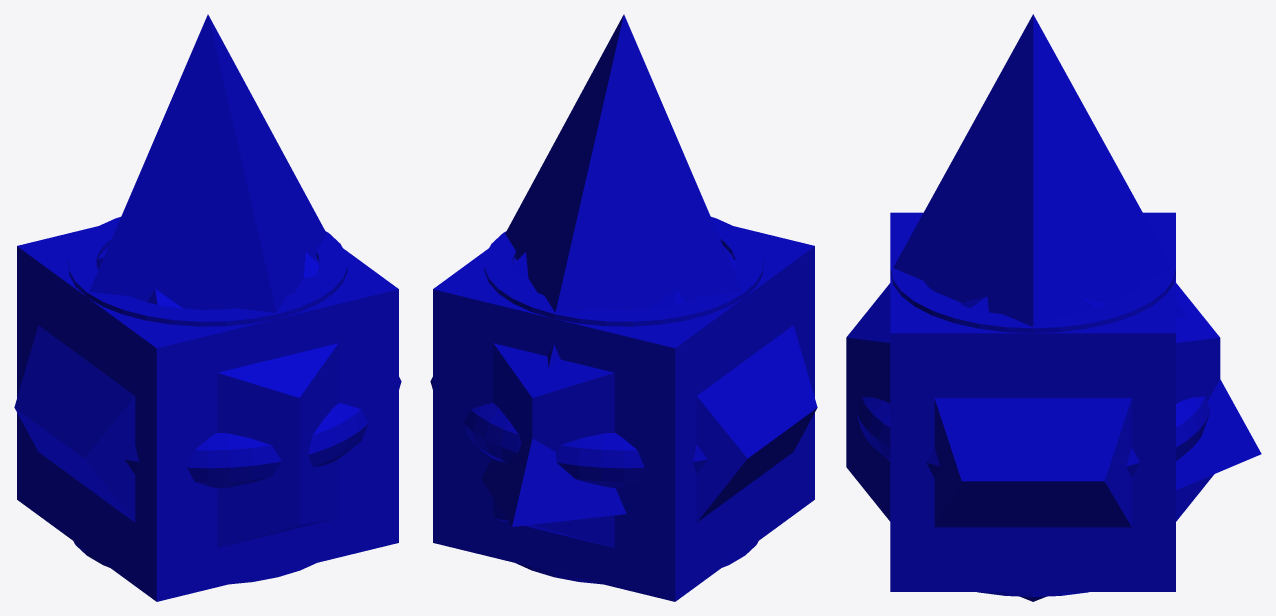
3 renders of one model, left to right at view 1: azimuth 30°, elevation 25°; view 2: azimuth 150°, elevation 25°; view 3: azimuth 270°, elevation 25°, orthographic. The views are drawn at different scales.
Visible parts, largest first — view 1: cube_Cube.001, diamond_Cone.007, dodecahedron_Cube.002, hollow_cylinder_Cylinder.001, torus_Torus; view 2: cube_Cube.001, diamond_Cone.007, dodecahedron_Cube.002, hollow_cylinder_Cylinder.001, pyramid_Cone.008, torus_Torus; view 3: cube_Cube.001, diamond_Cone.007, dodecahedron_Cube.002, hollow_cylinder_Cylinder.001, pyramid_Cone.008, torus_Torus.
Boxes of the visible parts, x1=… form: cube_Cube.001: x1=17, y1=226, x2=398, y2=601; diamond_Cone.007: x1=89, y1=14, x2=326, y2=312; dodecahedron_Cube.002: x1=14, y1=252, x2=401, y2=547; hollow_cylinder_Cylinder.001: x1=68, y1=217, x2=347, y2=584; torus_Torus: x1=124, y1=403, x2=368, y2=487; cube_Cube.001: x1=433, y1=226, x2=814, y2=601; diamond_Cone.007: x1=505, y1=14, x2=742, y2=312; dodecahedron_Cube.002: x1=430, y1=252, x2=817, y2=547; hollow_cylinder_Cylinder.001: x1=484, y1=217, x2=763, y2=584; pyramid_Cone.008: x1=481, y1=344, x2=626, y2=526; torus_Torus: x1=463, y1=403, x2=707, y2=487; cube_Cube.001: x1=890, y1=212, x2=1175, y2=591; diamond_Cone.007: x1=893, y1=14, x2=1172, y2=326; dodecahedron_Cube.002: x1=846, y1=283, x2=1220, y2=601; hollow_cylinder_Cylinder.001: x1=890, y1=239, x2=1175, y2=596; pyramid_Cone.008: x1=1176, y1=299, x2=1261, y2=489; torus_Torus: x1=855, y1=396, x2=1209, y2=477.
Bounding box in the file's own units: 2.62 × 4.31 × 2.91.
